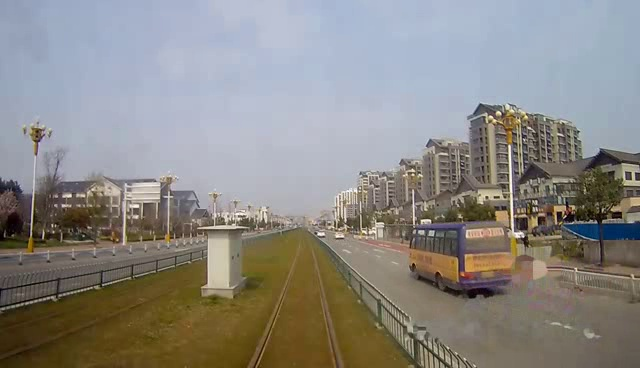bus: (406, 218, 513, 294)
